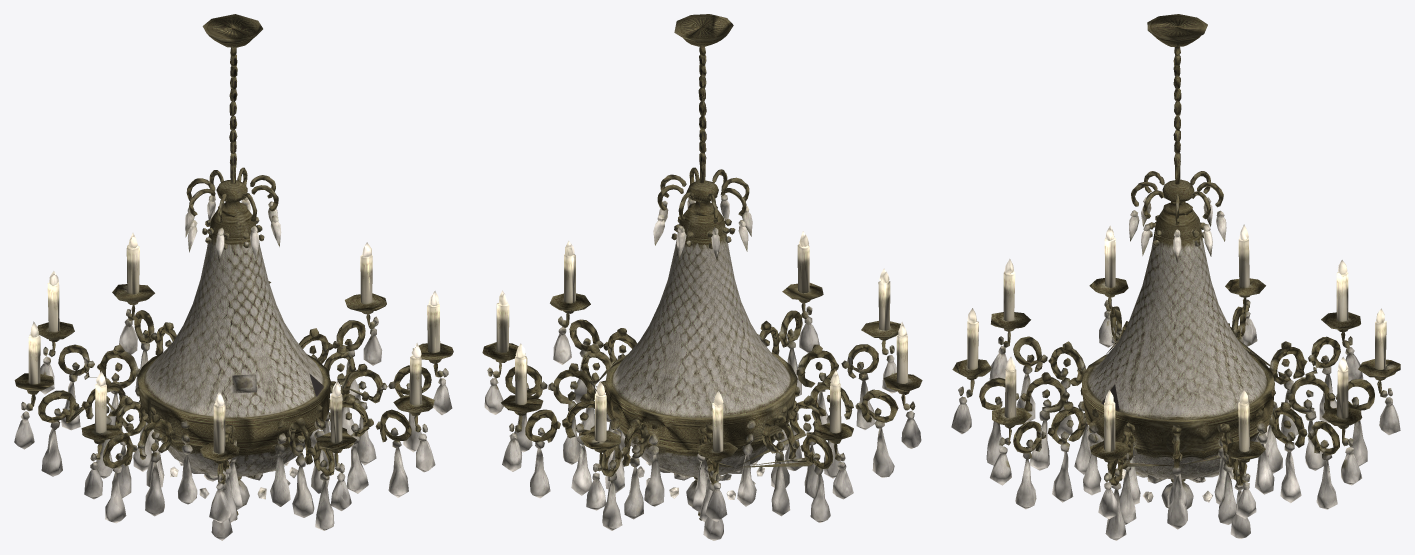
The model's file is rrr_prop_chandelier_v1.glb.
The picture shows the model from 3 angles, left to right: view 1: azimuth 30°, elevation 25°; view 2: azimuth 150°, elevation 25°; view 3: azimuth 270°, elevation 25°; orthographic projection.
Visible parts, largest first — view 1: Mesh_0; view 2: Mesh_0; view 3: Mesh_0.
Part boxes in pixels (box(x1,y1,x2,y2)): Mesh_0: box(14, 14, 453, 540); Mesh_0: box(482, 14, 922, 540); Mesh_0: box(951, 14, 1400, 540).
Bounding box in the file's own units: 0.7852 × 1 × 0.8242.
Materials: 1 (1 with a texture image).
